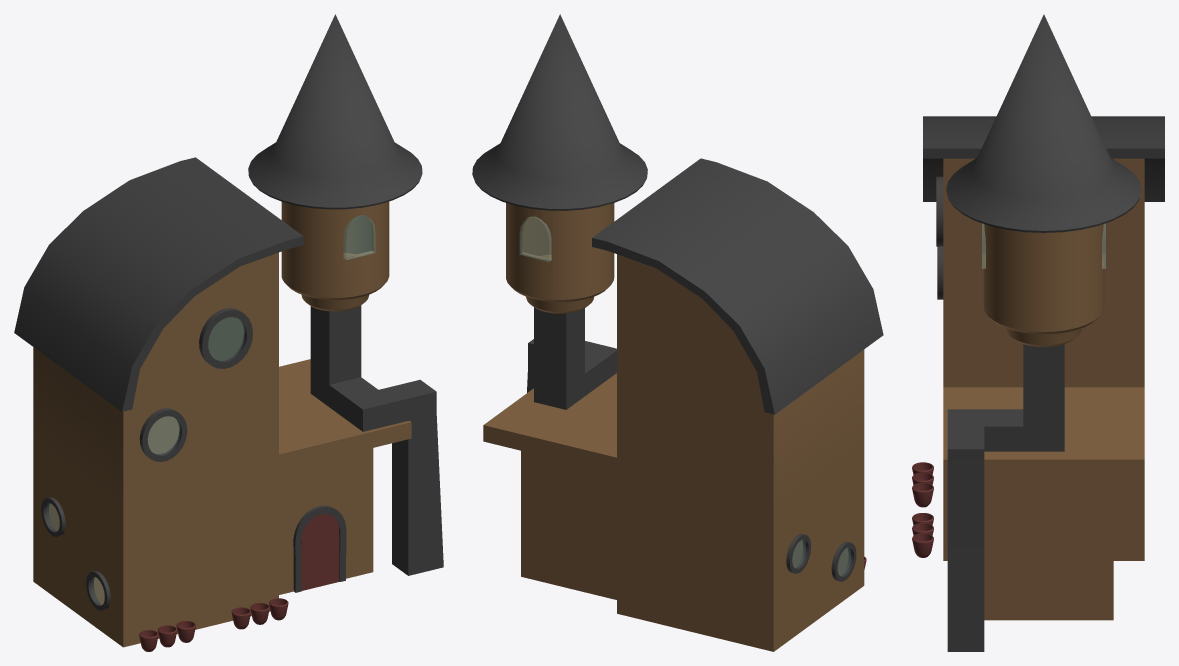
3 renders of one model, left to right at view 1: azimuth 30°, elevation 25°; view 2: azimuth 150°, elevation 25°; view 3: azimuth 270°, elevation 25°, orthographic. The views are drawn at different scales.
Parts seen in each view (by area): view 1: House3; view 2: House3; view 3: House3.
Boxes of the visible parts, x1,y1,x2,y2 form: House3: (14, 14, 443, 651); House3: (472, 14, 883, 651); House3: (912, 14, 1164, 651).
Bounding box in the file's own units: 440 × 660 × 251.
